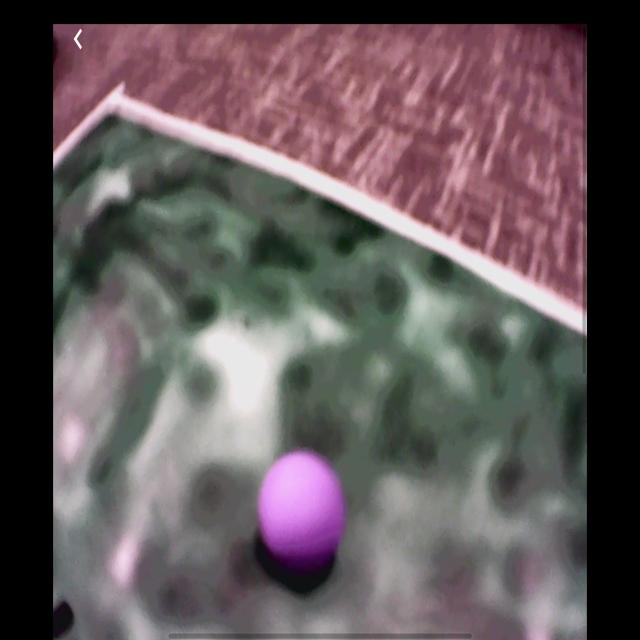ball: (257, 449, 347, 576)
